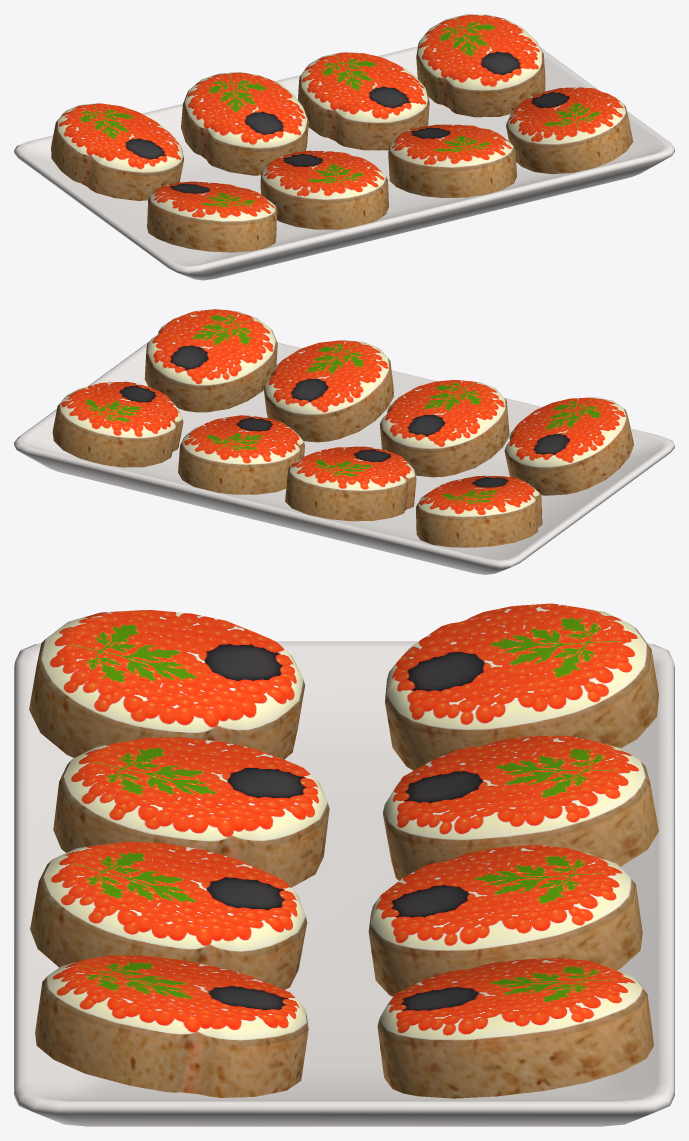
Rendered from BuffetSnacks03_3.FBX.
3 renders of one model, top to bottom at view 1: azimuth 30°, elevation 25°; view 2: azimuth 150°, elevation 25°; view 3: azimuth 270°, elevation 25°, orthographic. The views are drawn at different scales.
Visible parts, largest first — view 1: BuffetSnacks03_3; view 2: BuffetSnacks03_3; view 3: BuffetSnacks03_3.
Part boxes in pixels (bbox=[...]): BuffetSnacks03_3: bbox=[14, 14, 674, 280]; BuffetSnacks03_3: bbox=[14, 309, 674, 574]; BuffetSnacks03_3: bbox=[14, 603, 674, 1126].
Size of what is drawn, in the model's own units: 0.4959 by 0.0584 by 0.2973.
